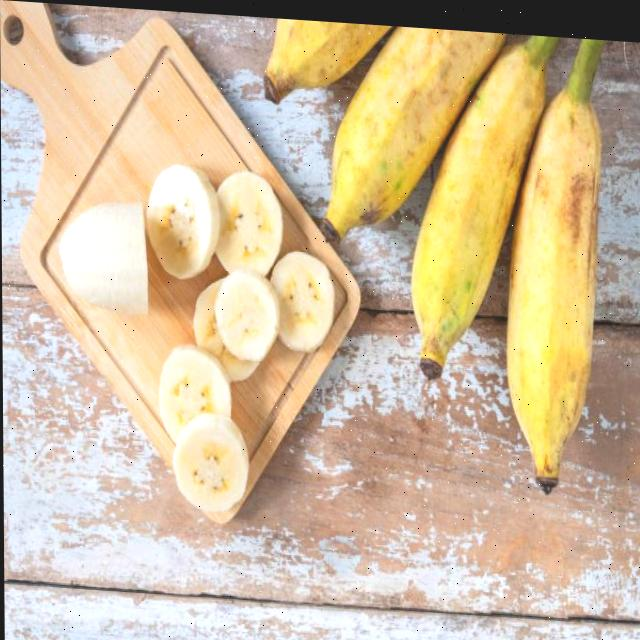banana: (402, 27, 557, 398), (504, 34, 614, 506), (317, 21, 519, 245), (261, 17, 402, 104)
